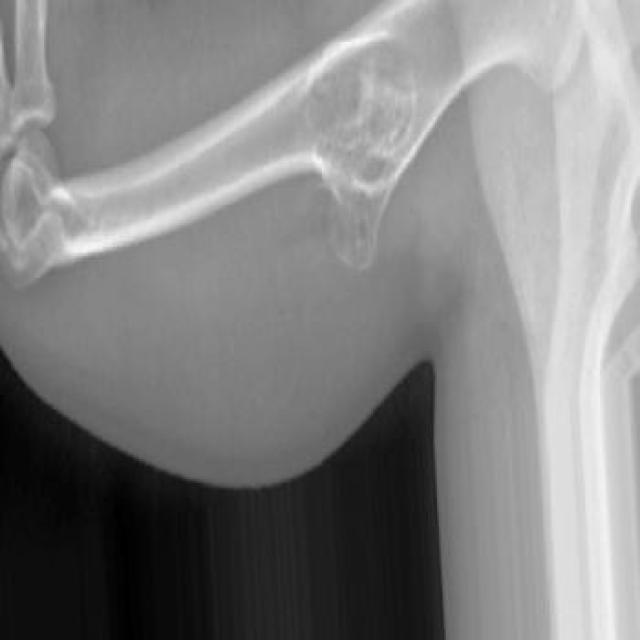Fracture: (300, 0, 431, 227)
